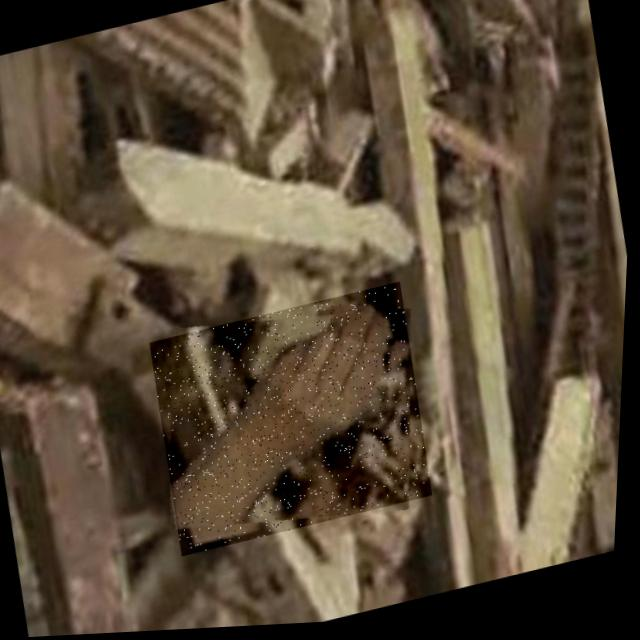Person in Rubble: (145, 284, 444, 560)
